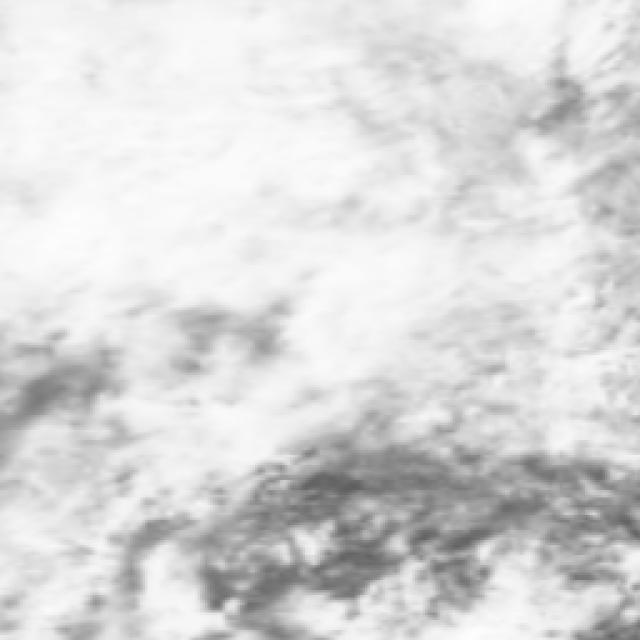CB: (0, 5, 282, 284), (271, 228, 443, 359), (263, 87, 397, 240)
